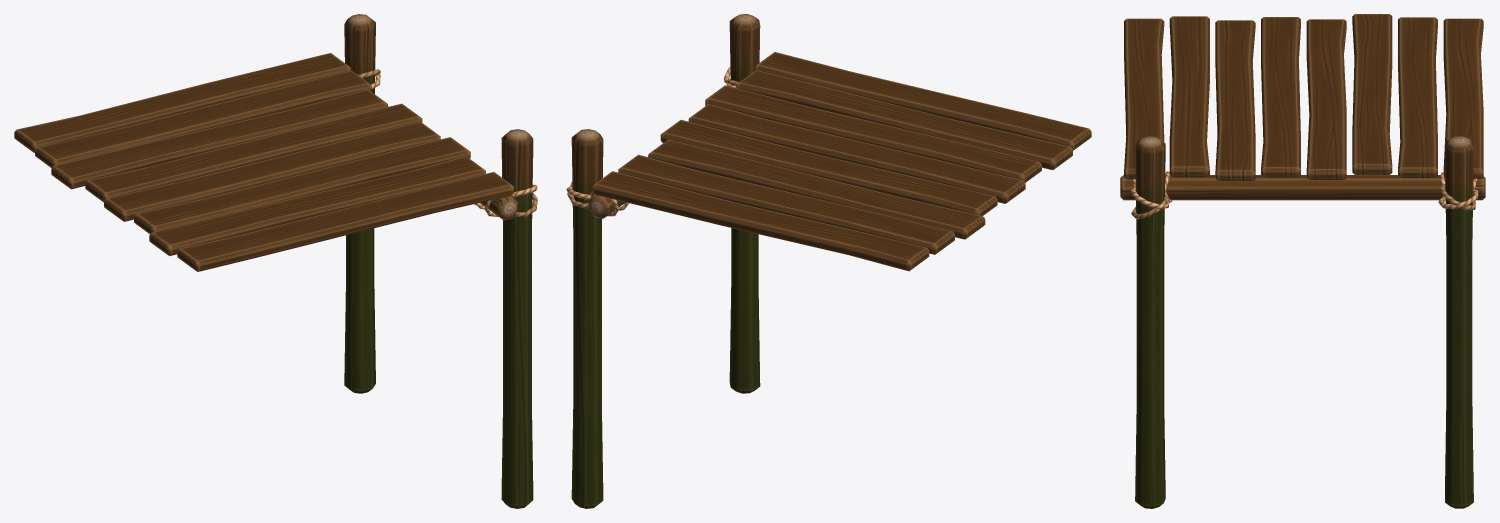
The model's file is Right.1.fbx.
The picture shows the model from 3 angles, left to right: view 1: azimuth 30°, elevation 25°; view 2: azimuth 150°, elevation 25°; view 3: azimuth 270°, elevation 25°; orthographic projection.
Parts seen in each view (by area): view 1: Right.1; view 2: Right.1; view 3: Right.1.
Boxes of the visible parts, box(x1,y1,x2,y2) form: Right.1: box(14, 14, 537, 508); Right.1: box(566, 14, 1091, 508); Right.1: box(1120, 14, 1485, 508).
Size of the model in its own units: 225 by 220 by 200.
